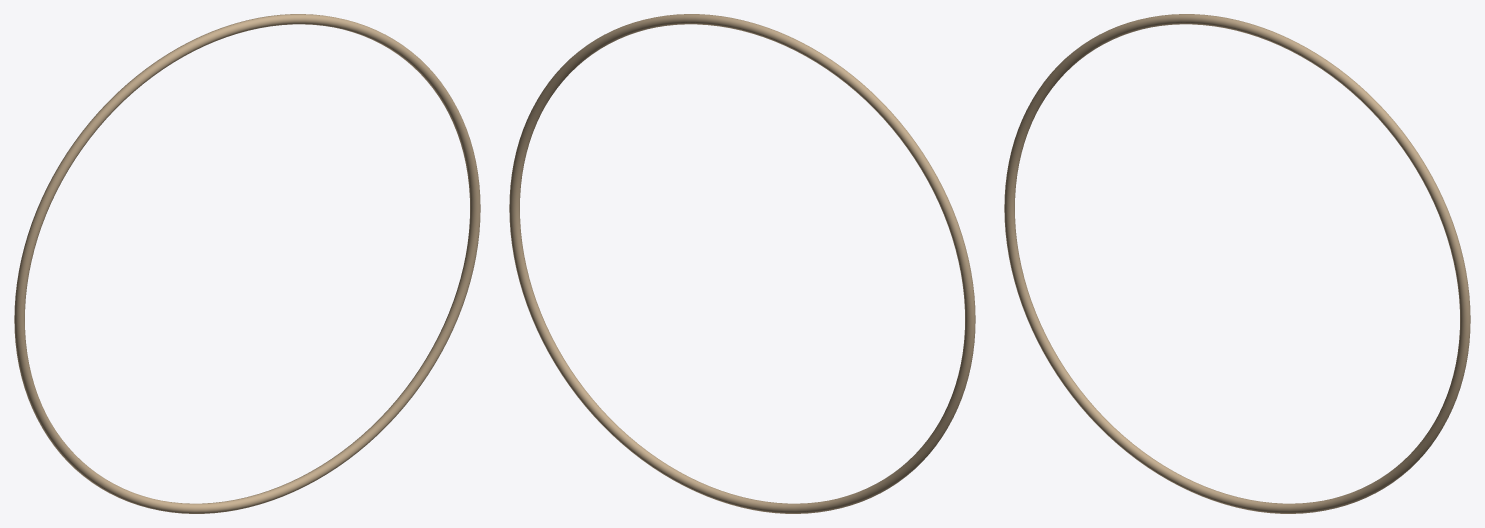
File: portrait-medallion.glb
3 views of the same model, side by side, from view 1: azimuth 30°, elevation 25°; view 2: azimuth 150°, elevation 25°; view 3: azimuth 330°, elevation 25° (orthographic).
Visible parts, largest first — view 1: rim; view 2: rim; view 3: rim.
Part boxes in pixels (x1=…): rim: x1=14, y1=14, x2=480, y2=513; rim: x1=509, y1=14, x2=975, y2=513; rim: x1=1004, y1=14, x2=1470, y2=513.
Size of the model in its own units: 1.22 by 1.22 by 0.024.
